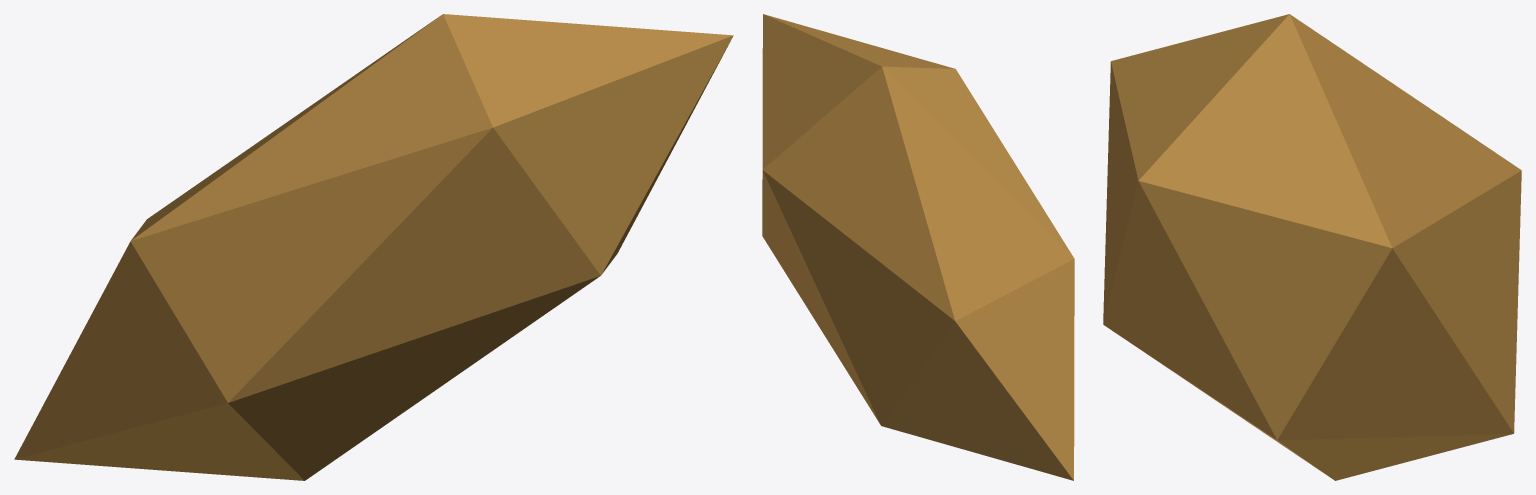
Rendered from gore_03.glb.
3 renders of one model, left to right at view 1: azimuth 30°, elevation 25°; view 2: azimuth 150°, elevation 25°; view 3: azimuth 270°, elevation 25°, orthographic. The views are drawn at different scales.
Visible parts, largest first — view 1: CHUNK; view 2: CHUNK; view 3: CHUNK.
Part boxes in pixels (x1,y1,x2,y2): CHUNK: (14,14,733,480); CHUNK: (762,14,1074,480); CHUNK: (1103,14,1521,480).
Bounding box in the file's own units: 0.1059 × 0.0799 × 0.0566.
